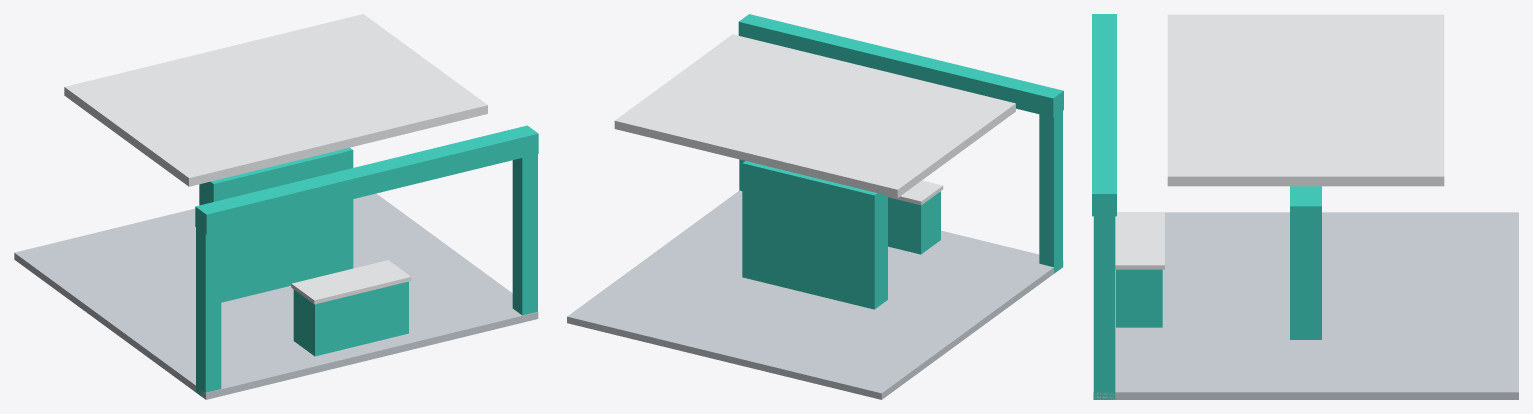
3 renders of one model, left to right at view 1: azimuth 30°, elevation 25°; view 2: azimuth 150°, elevation 25°; view 3: azimuth 270°, elevation 25°, orthographic. The views are drawn at different scales.
Visible parts, largest first — view 1: Exhibition Booth Concept; view 2: Exhibition Booth Concept; view 3: Exhibition Booth Concept.
Part boxes in pixels (x1,y1,x2,y2): Exhibition Booth Concept: [14, 14, 538, 399]; Exhibition Booth Concept: [567, 14, 1063, 399]; Exhibition Booth Concept: [1092, 14, 1518, 399].
Size of the model in its own units: 6 by 3.34 by 6.02.
